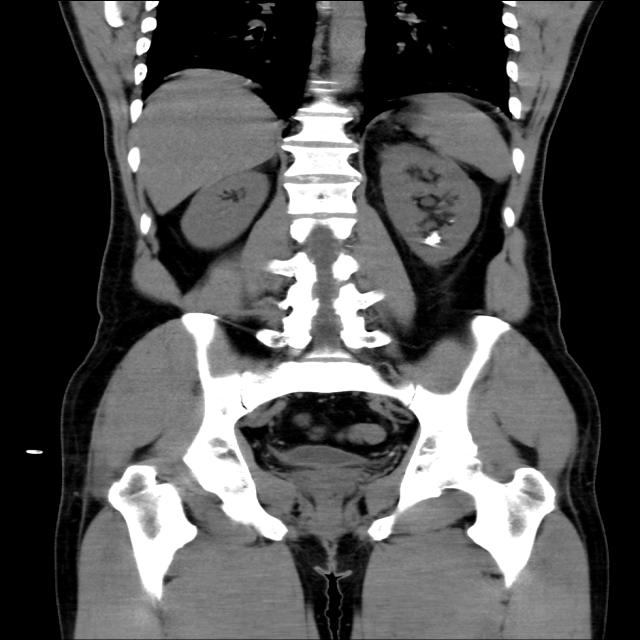kidneystone: (424, 231, 441, 247)
